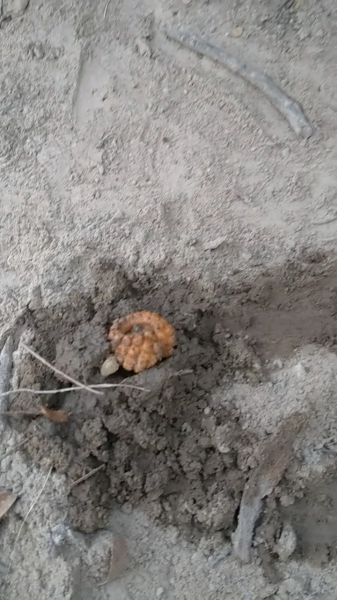eggs: (104, 306, 180, 376)
